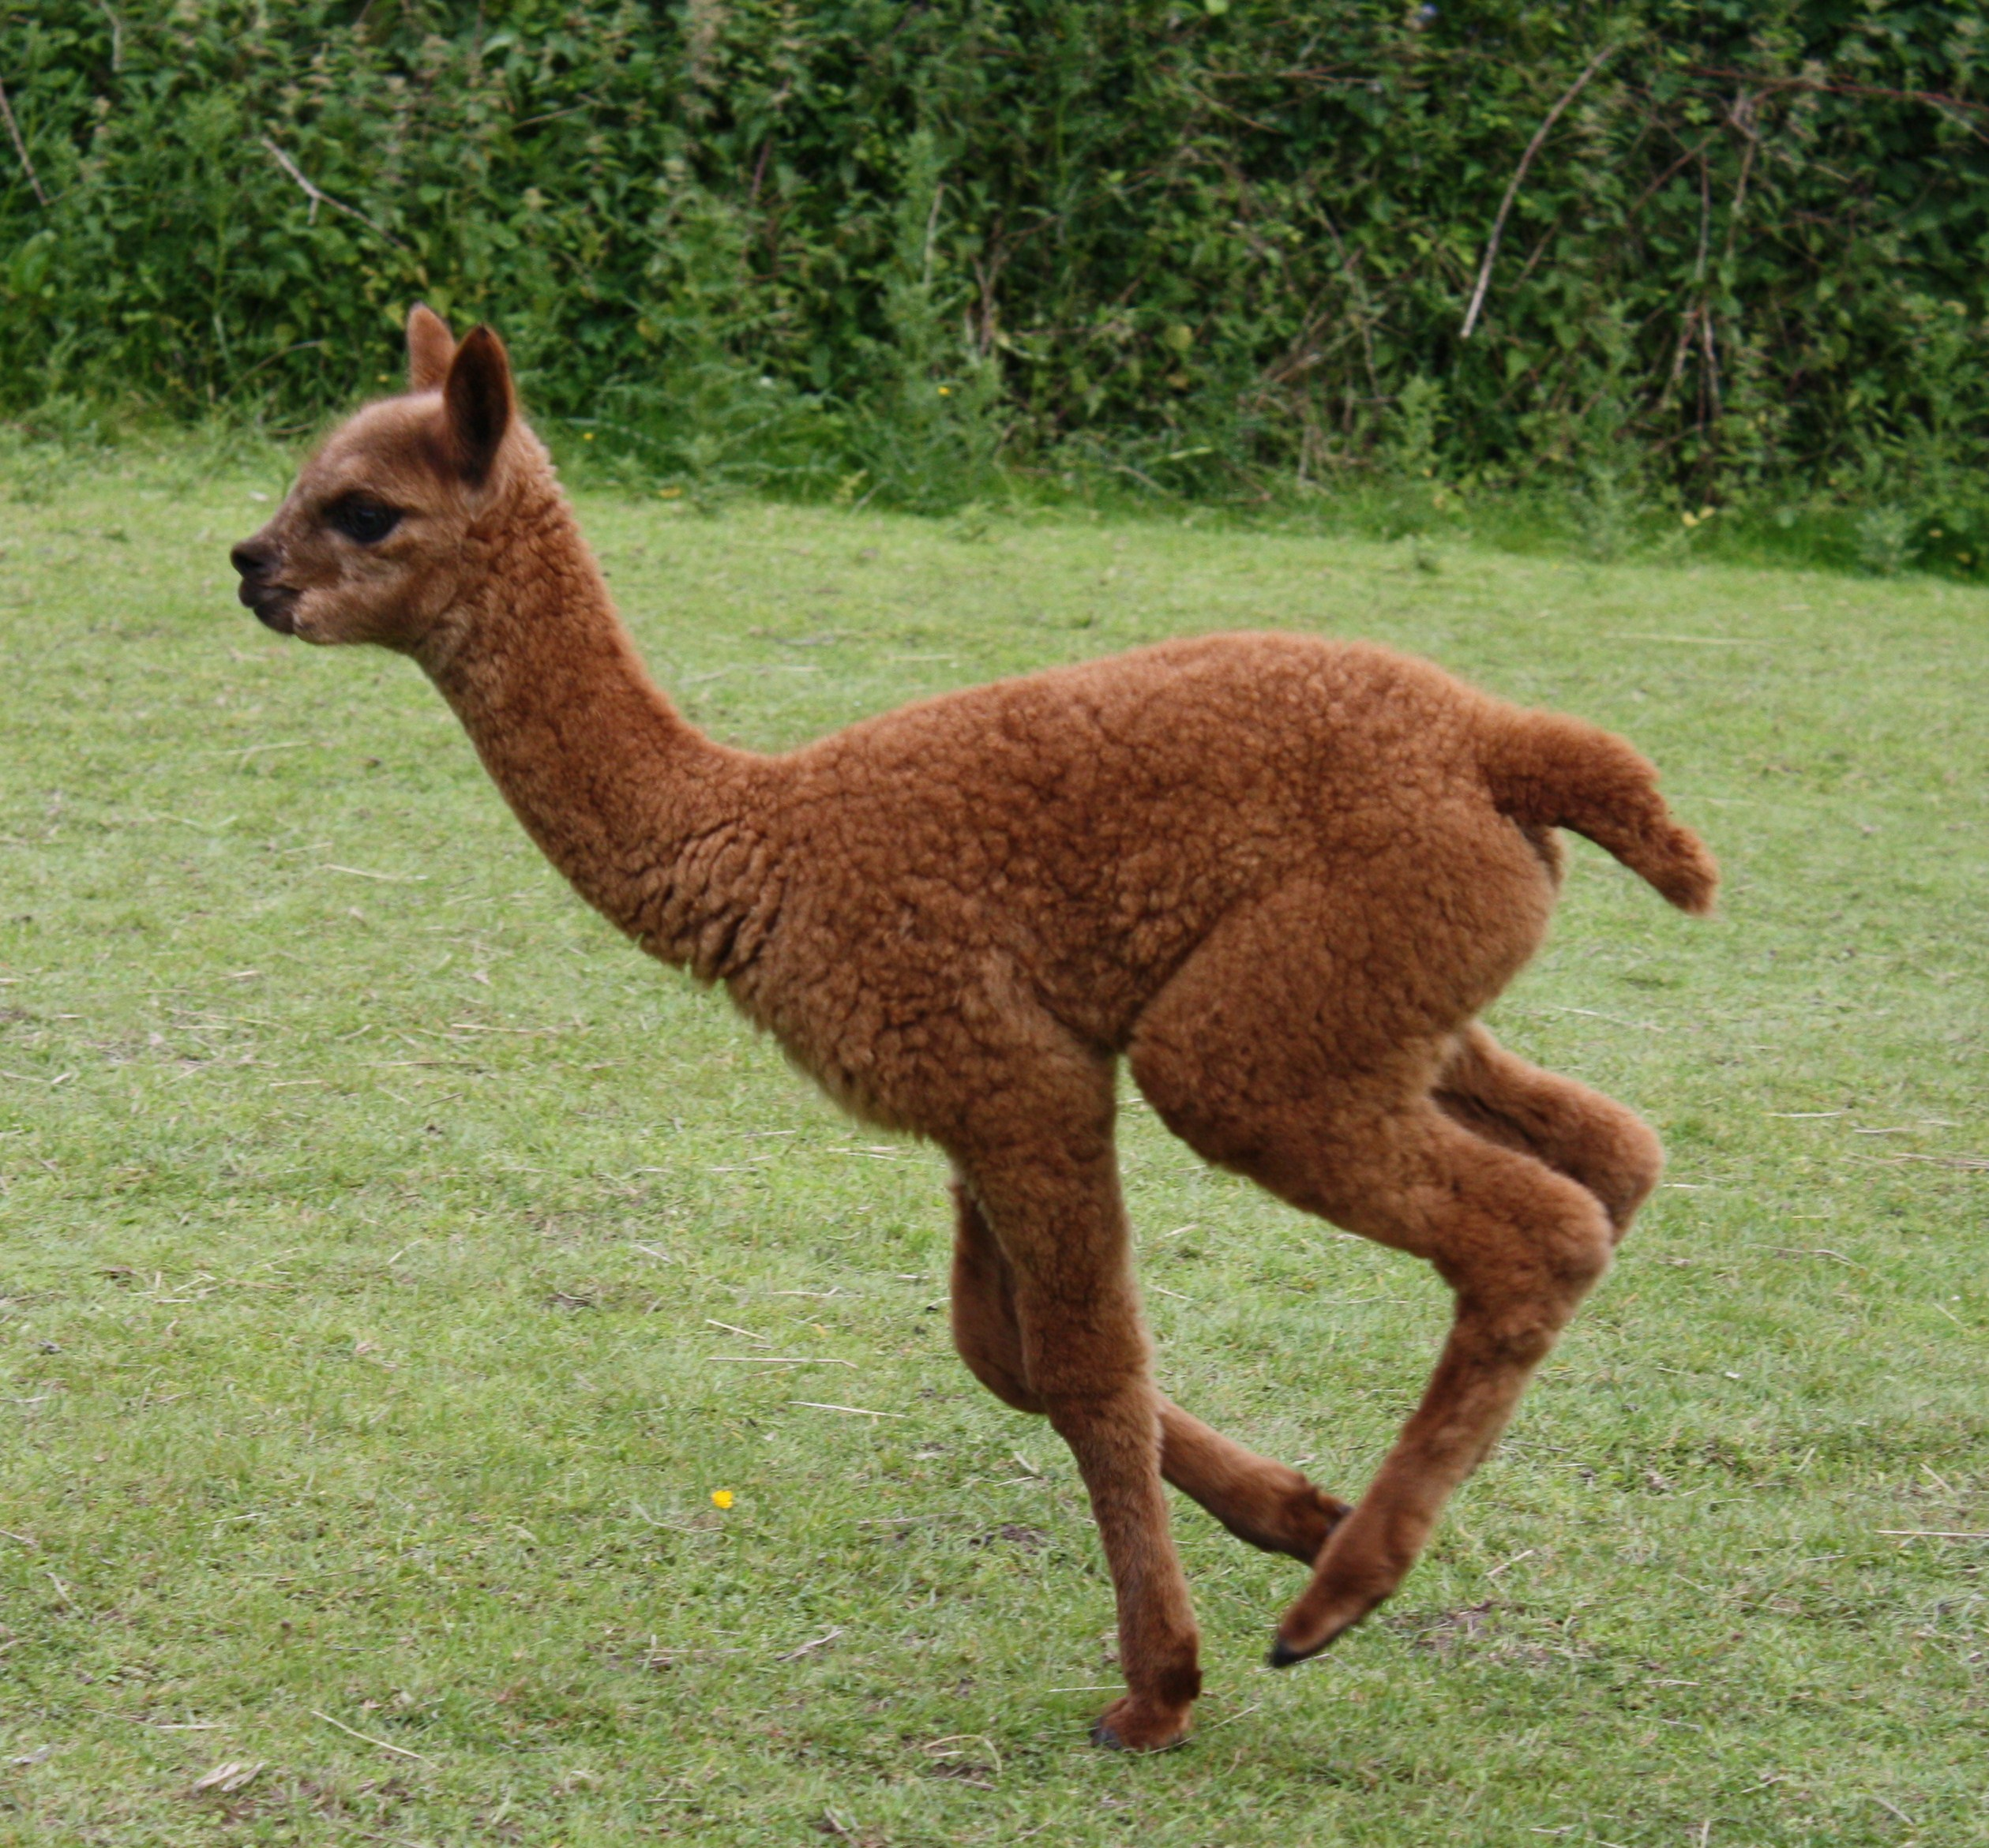alpaca: (226, 294, 1718, 1752)
